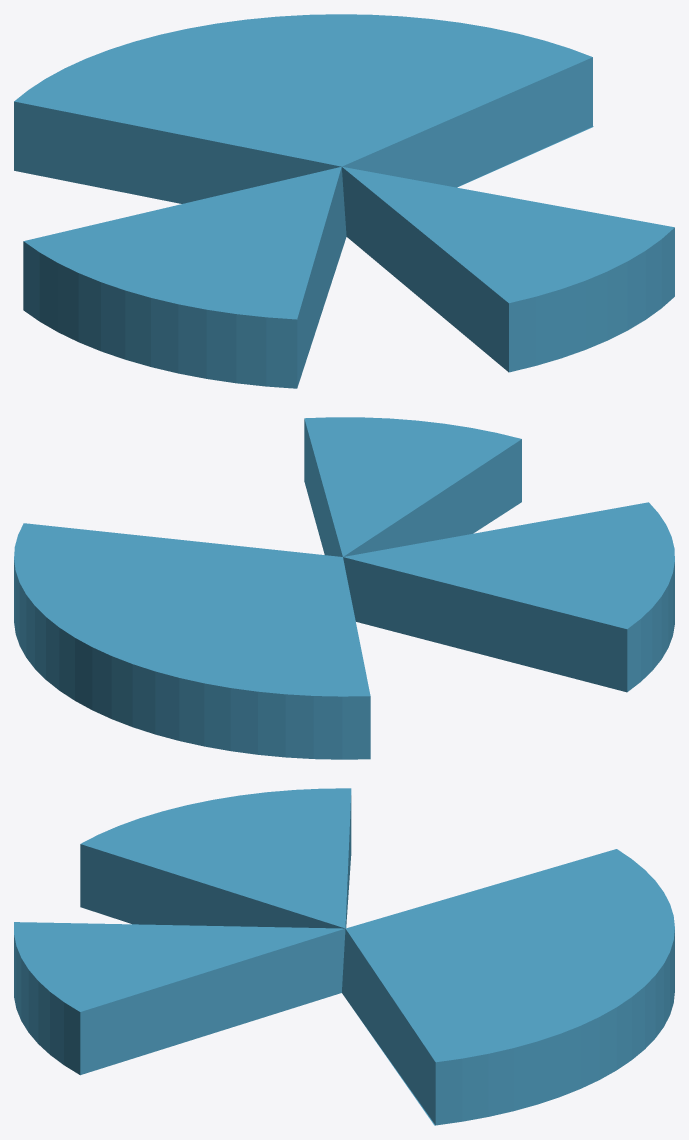
Rendered from floor3.fbx.
3 views of the same model, one above another, from view 1: azimuth 30°, elevation 25°; view 2: azimuth 150°, elevation 25°; view 3: azimuth 270°, elevation 25° (orthographic). The views are drawn at different scales.
Visible parts, largest first — view 1: Cylinder; view 2: Cylinder; view 3: Cylinder.
Boxes of the visible parts, x1,y1,x2,y2 form: Cylinder: (14,14,674,388); Cylinder: (14,417,674,759); Cylinder: (14,788,674,1125).
Size of the model in its own units: 347 by 37.3 by 354.
